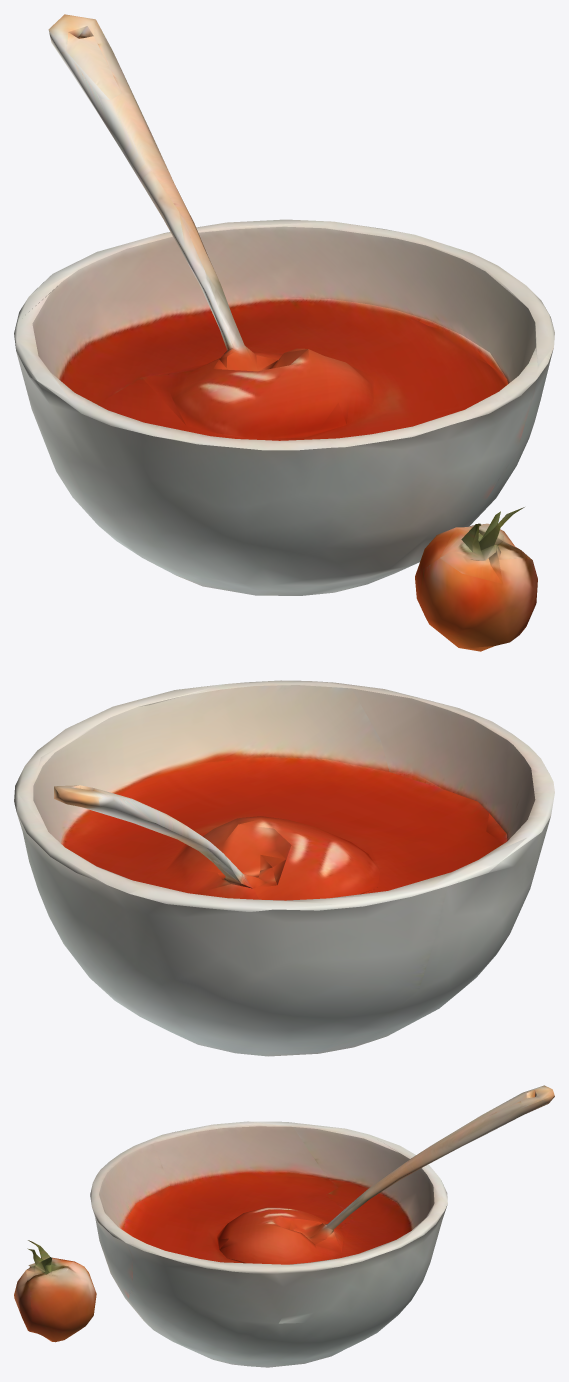
Rendered from sauceBowl.glb.
3 views of the same model, one above another, from view 1: azimuth 30°, elevation 25°; view 2: azimuth 150°, elevation 25°; view 3: azimuth 270°, elevation 25° (orthographic). The views are drawn at different scales.
Visible parts, largest first — view 1: model; view 2: model; view 3: model.
Boxes of the visible parts, x1,y1,x2,y2 form: model: [14, 14, 554, 651]; model: [14, 680, 554, 1056]; model: [14, 1085, 554, 1367].
Bounding box in the file's own units: 1.24 × 0.9364 × 1.9.
Materials: 1 (1 with a texture image).
